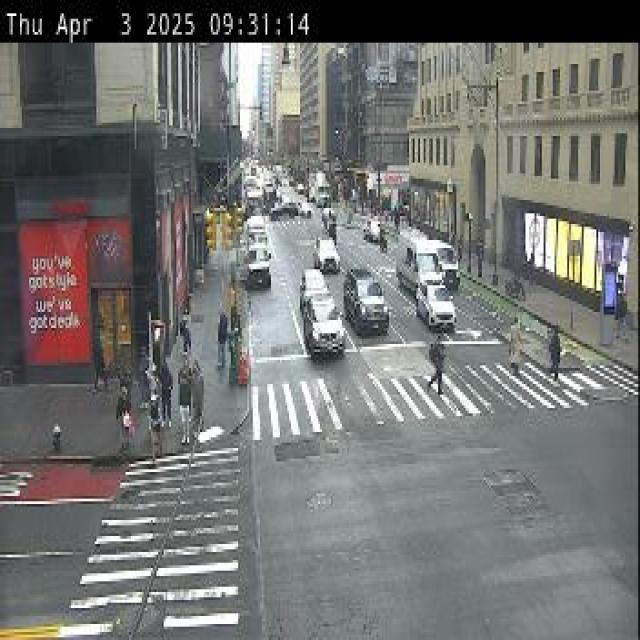open parking: (236, 252, 304, 396)
